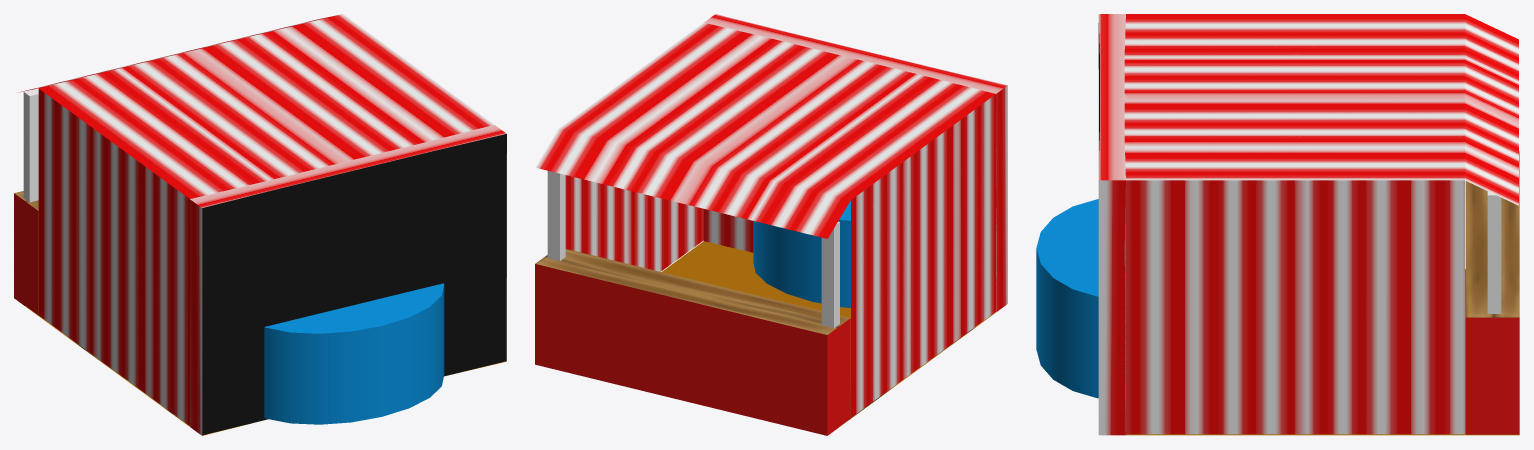
The model's file is kiosko 1.fbx.
3 renders of one model, left to right at view 1: azimuth 30°, elevation 25°; view 2: azimuth 150°, elevation 25°; view 3: azimuth 270°, elevation 25°, orthographic. The views are drawn at different scales.
Visible parts, largest first — view 1: polySurface20; view 2: polySurface20; view 3: polySurface20.
Boxes of the visible parts, bbox=[...] form: polySurface20: bbox=[14, 14, 506, 435]; polySurface20: bbox=[535, 14, 1007, 435]; polySurface20: bbox=[1036, 14, 1519, 435].
Bounding box in the file's own units: 31.93 × 22.87 × 39.19.
Materials: 1 (1 with a texture image).
